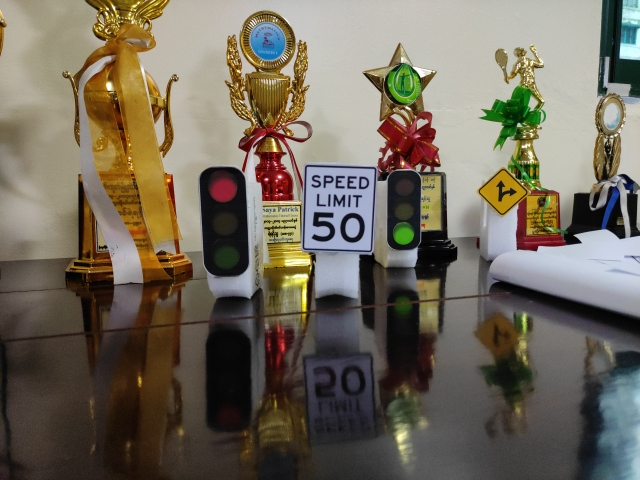Green Traffic Light: (386, 169, 422, 250)
Red Traffic Light: (198, 168, 248, 276)
Speed Limit 50: (303, 164, 376, 253)
Straight Or Right Sign: (477, 167, 528, 214)
